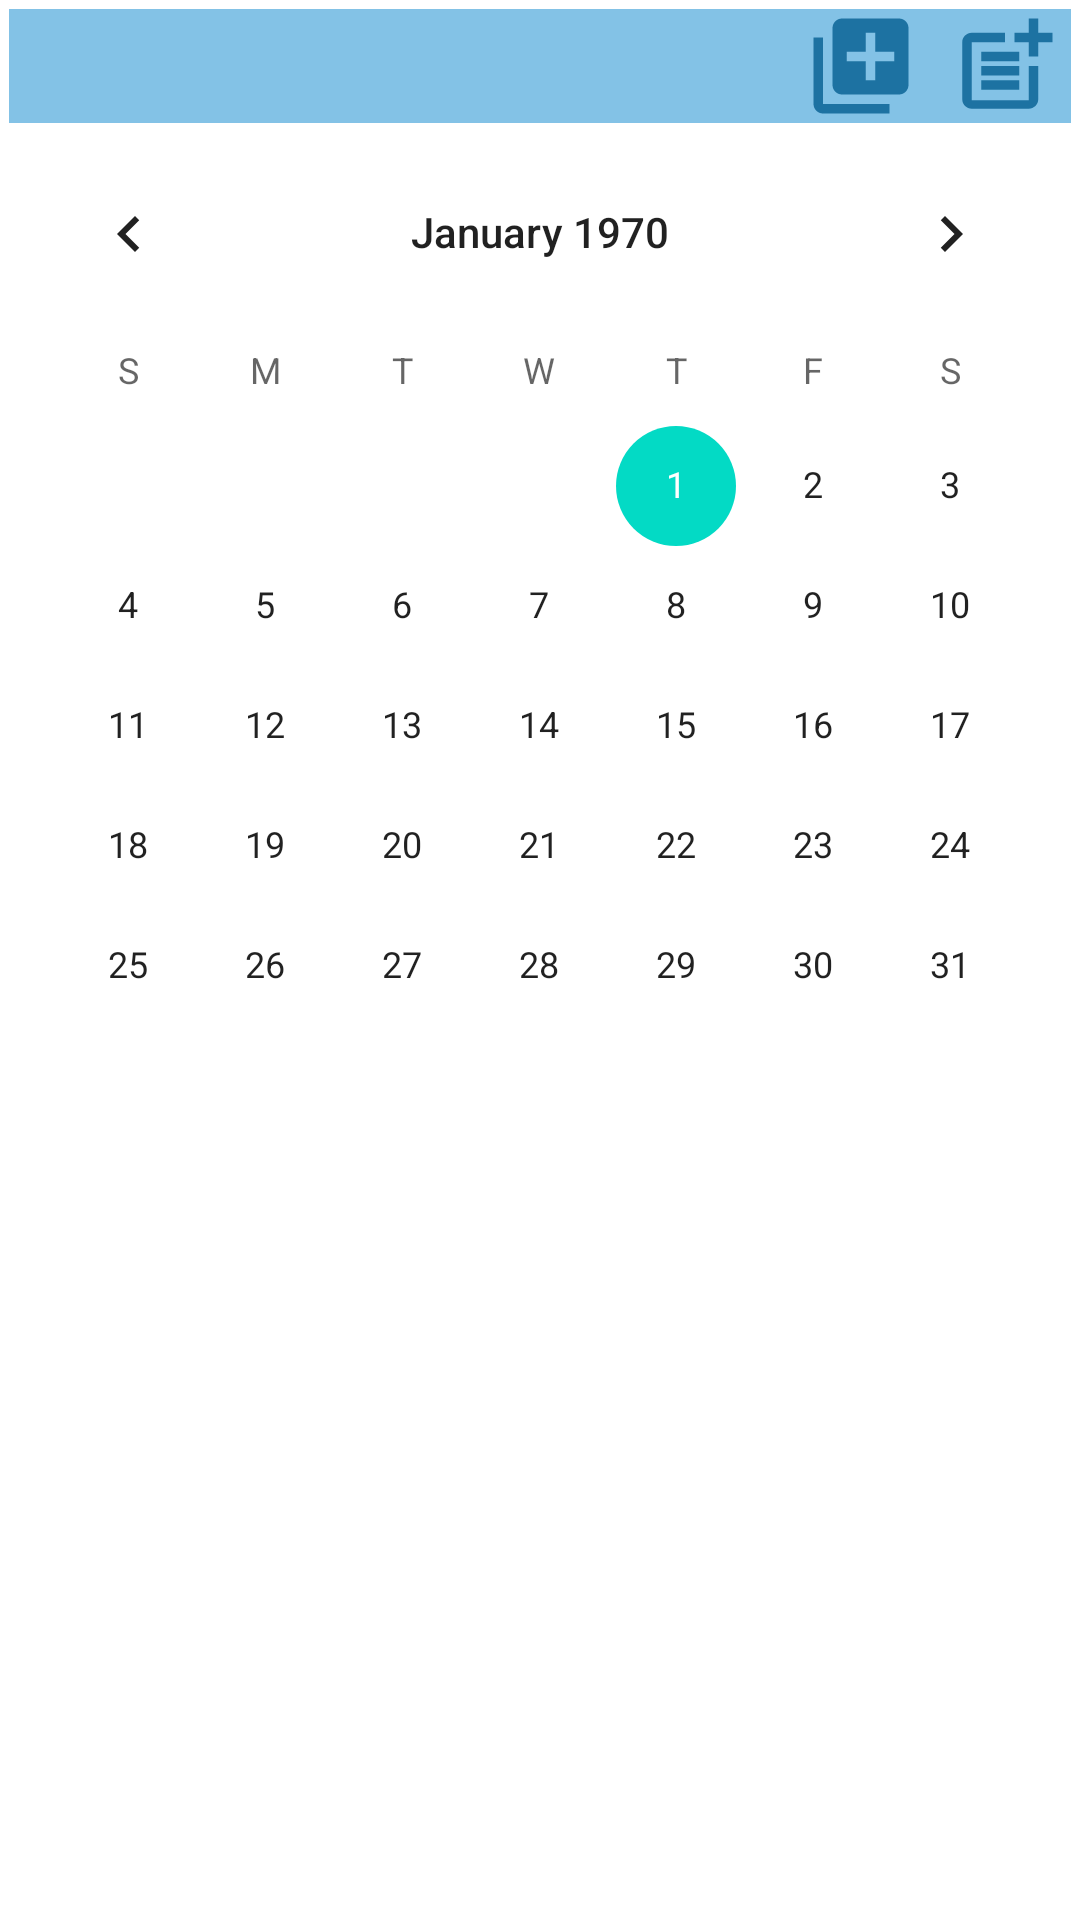

Icons on this 1080 × 1920 Android screen, each with its box as (x1, y1, x2, y2):
add actuacion: (962, 18, 1053, 109)
add process: (813, 18, 909, 114)
